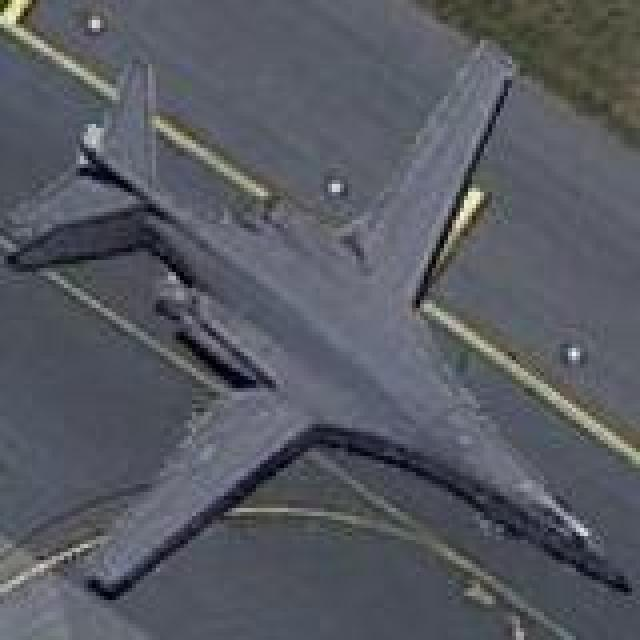B-1_TopDown: (6, 38, 638, 598)
